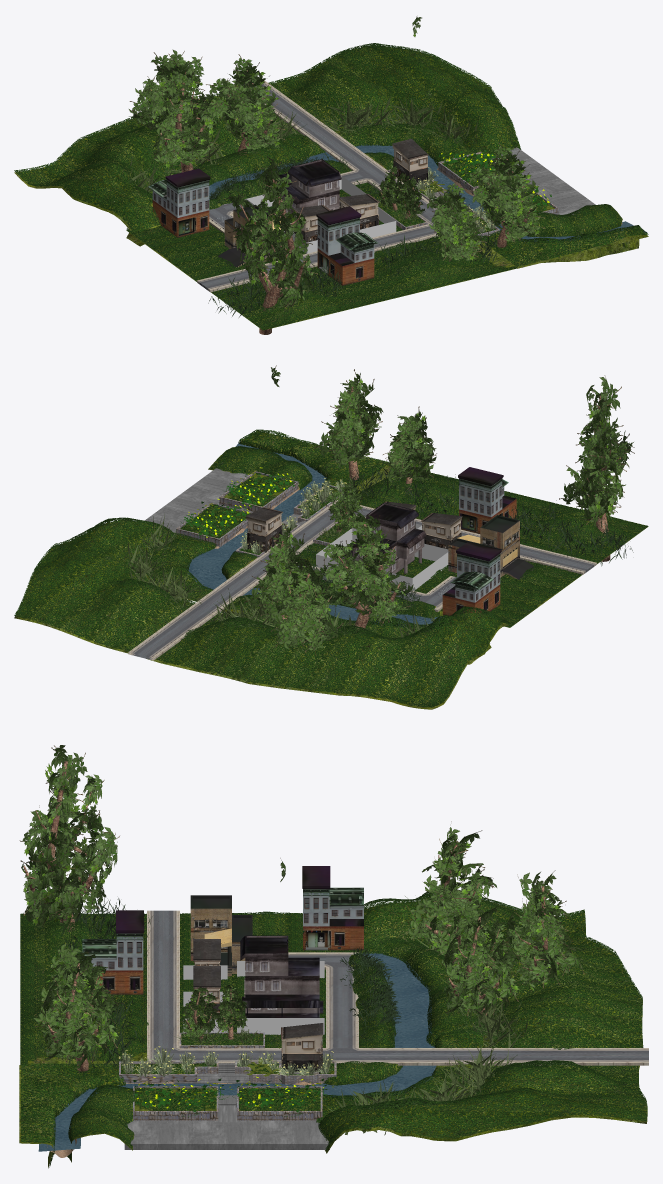
The model's file is a_city_in_nature_4.glb.
3 renders of one model, top to bottom at view 1: azimuth 30°, elevation 25°; view 2: azimuth 150°, elevation 25°; view 3: azimuth 270°, elevation 25°, orthographic. The views are drawn at different scales.
Parts seen in each view (by area): view 1: Plane.011, Plane.007, Plane.002, Cube.002, Plane.004, Cube.033, Cube.006, Plane.012, Plane.009, Cube.036, Plane.013, Plane.005 (+22 smaller); view 2: Plane.011, Plane.002, Plane.007, Cube.002, Plane.004, Cube.006, Plane.014, Plane.009, Cube.033, Plane.012, Cube.036, Cube.025 (+25 smaller); view 3: Plane.011, Plane.002, Cube.002, Plane.007, Plane.014, Cube.035, Cube.036, Plane.009, Cube.006, Plane.004, Plane.013, Cube.033 (+30 smaller).
Part boxes in pixels (x1,y1,x2,y2): Plane.011: [14, 43, 521, 232]; Plane.007: [126, 182, 517, 330]; Plane.002: [14, 45, 518, 230]; Cube.002: [197, 78, 438, 292]; Plane.004: [126, 184, 517, 330]; Cube.033: [316, 206, 378, 285]; Cube.006: [148, 168, 210, 237]; Plane.012: [282, 123, 477, 166]; Plane.009: [481, 225, 648, 266]; Cube.036: [278, 159, 341, 216]; Plane.013: [126, 137, 309, 229]; Plane.005: [479, 227, 648, 268]; Plane.011: [14, 517, 510, 707]; Plane.002: [14, 519, 508, 709]; Plane.007: [296, 464, 647, 627]; Cube.002: [128, 500, 596, 660]; Plane.004: [298, 465, 648, 627]; Cube.006: [442, 542, 501, 615]; Plane.014: [187, 438, 443, 627]; Plane.009: [238, 429, 389, 486]; Cube.033: [458, 467, 516, 533]; Plane.012: [145, 532, 258, 610]; Cube.036: [342, 502, 426, 574]; Cube.025: [448, 515, 534, 579]; Plane.011: [318, 889, 647, 1150]; Plane.002: [321, 896, 647, 1153]; Cube.002: [147, 910, 648, 1065]; Plane.007: [20, 911, 353, 1065]; Plane.014: [38, 953, 436, 1151]; Cube.035: [124, 1120, 329, 1149]; Cube.036: [240, 935, 323, 1017]; Plane.009: [21, 1063, 125, 1167]; Cube.006: [302, 866, 363, 950]; Plane.004: [20, 914, 352, 1065]; Plane.013: [354, 938, 497, 1046]; Cube.033: [82, 910, 143, 994].
Size of the model in its own units: 122 by 55.41 by 129.
Materials: 24 (14 with a texture image).
